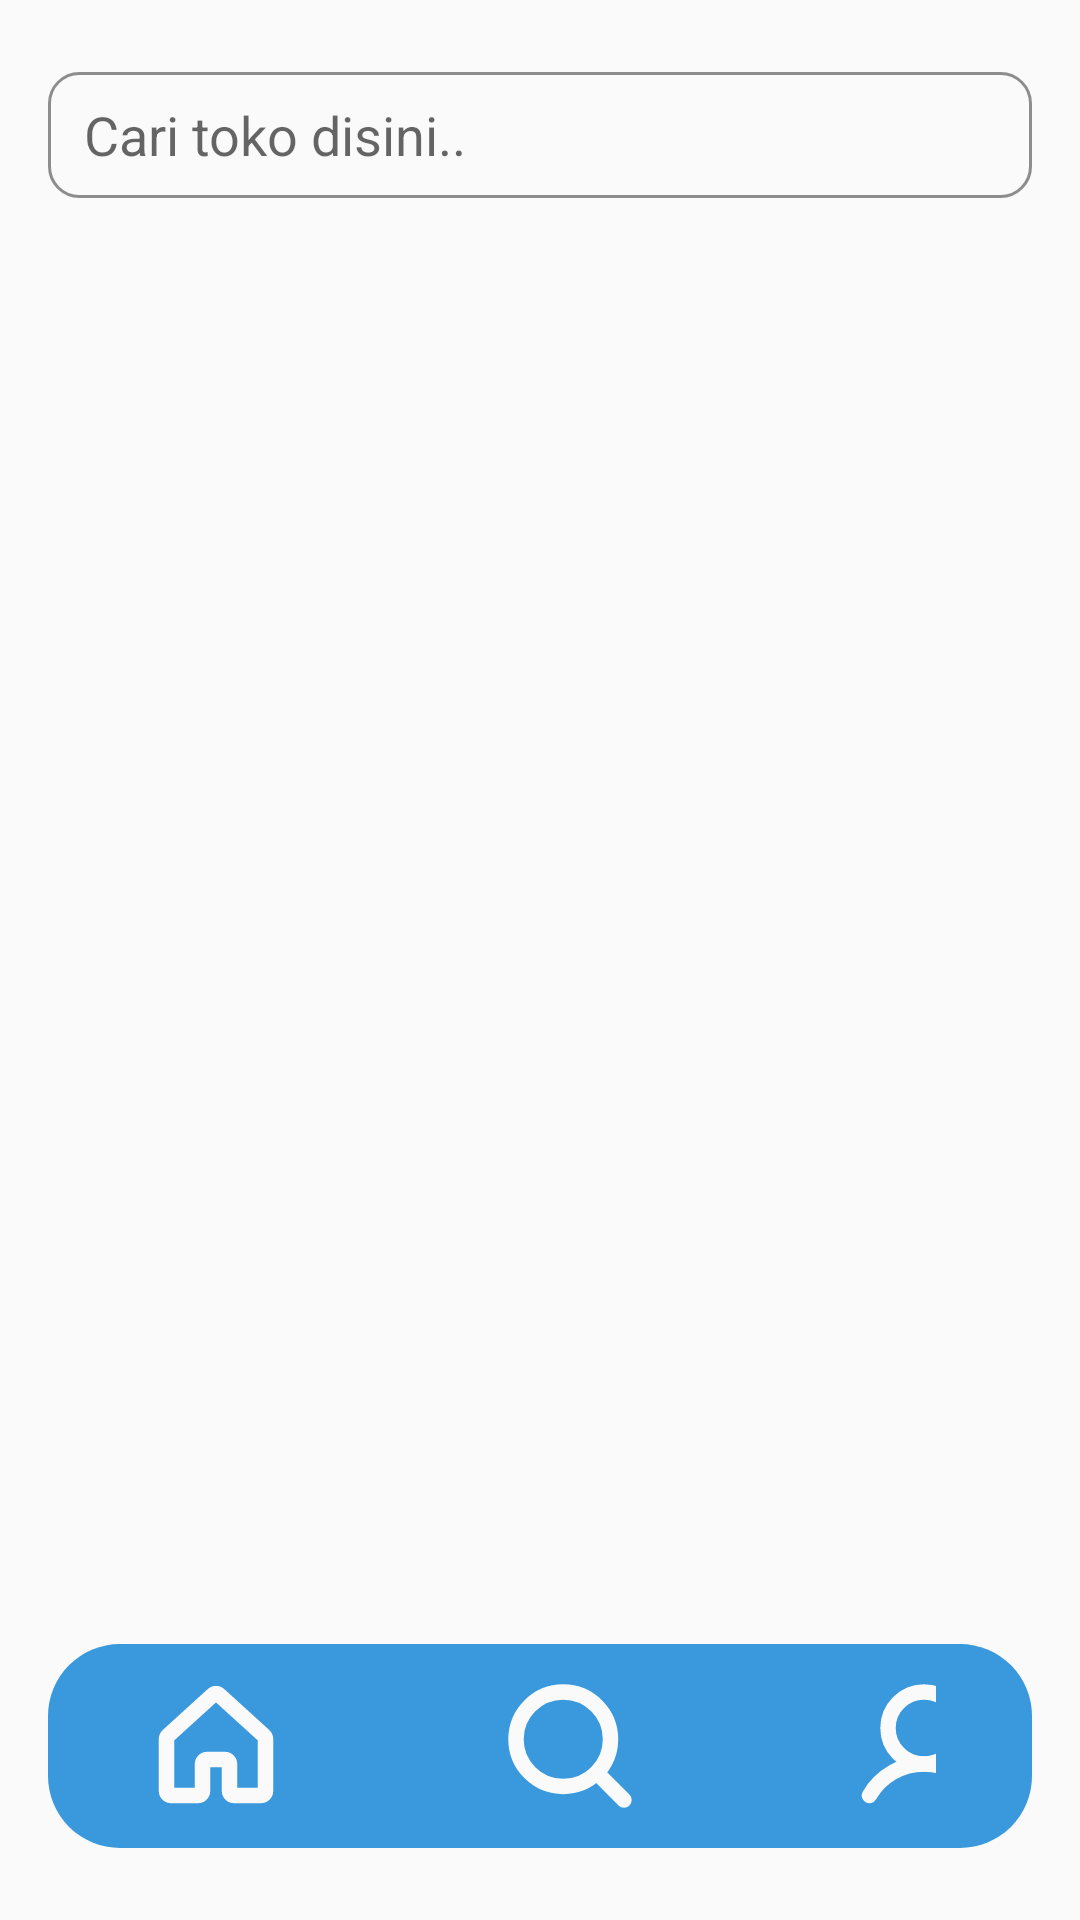

Screen size 1080*1920. Icon name, then its center in pixels as (x,y):
house: (216,1745)
jelajah: (570,1746)
user: (898,1744)
